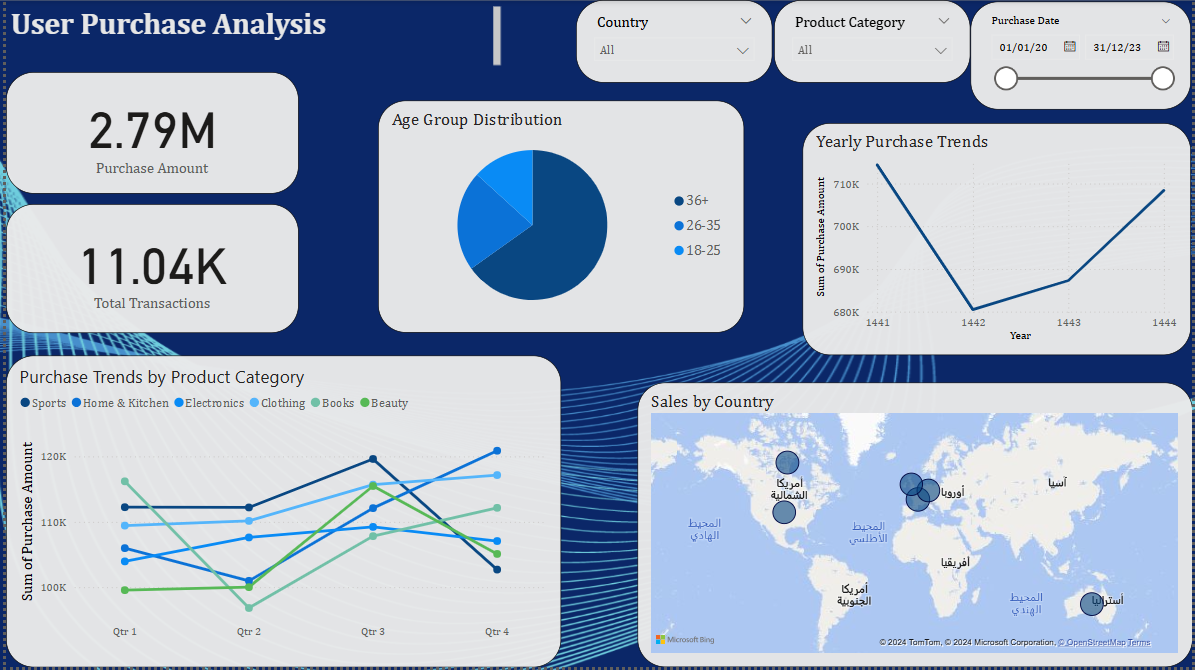

The dashboard page shown, as its layout file describes it:
{"tool":"powerbi","page":{"name":"Page ١","canvas":[1280,720],"ordinal":0},"visuals":[{"type":"lineChart","title":"Purchase Trends by Product Category","fields":{"Y":["Sum(dataset.Purchase Amount)"],"Series":["dataset.Product Category"],"Category":["dataset.Purchase Date.Variation.Date Hierarchy.Quarter"]},"box":[0,383.8,599.1,336.8],"z":0},{"type":"slicer","fields":{"Values":["dataset.Purchase Date"]},"box":[1041.2,1.6,238,116.6],"z":1000},{"type":"card","fields":{"Values":["Sum(dataset.Purchase Amount)"]},"box":[0,77.7,315.7,131.2],"z":2000},{"type":"card","fields":{"Values":["CountNonNull(dataset.User ID)"]},"box":[0,220.2,315.7,139.3],"z":3000},{"type":"map","title":"Sales by Country","fields":{"Category":["dataset.Country"],"Size":["Sum(dataset.Purchase Amount)"]},"box":[681.7,412.9,599.1,307.7],"z":4000},{"type":"lineChart","title":"Yearly Purchase Trends","fields":{"Category":["dataset.Purchase Date.Variation.Date Hierarchy.Year","dataset.Purchase Date.Variation.Date Hierarchy.Quarter","dataset.Purchase Date.Variation.Date Hierarchy.Month","dataset.Purchase Date.Variation.Date Hierarchy.Day"],"Y":["Sum(dataset.Purchase Amount)"]},"box":[859.8,132.8,419.4,251],"z":5000},{"type":"pieChart","title":"Age Group Distribution","fields":{"Category":["dataset.Age Group"],"Y":["CountNonNull(dataset.User ID)"]},"box":[401.6,108.5,395.1,251],"z":6000},{"type":"slicer","fields":{"Values":["dataset.Country"]},"box":[615.3,0,212.1,89.1],"z":7000},{"type":"slicer","fields":{"Values":["dataset.Product Category"]},"box":[829,0,212.1,89.1],"z":8000},{"type":"textbox","box":[0,1.6,539.2,76.1],"z":9000}]}

Visuals, with their boxes in screenshot pixels (x1, y1, x2, y2), scaled from the page's 1280x720 canvas onto the 1195x670 screenshot:
"Purchase Trends by Product Category" lineChart: crop(0, 357, 559, 669)
slicer - dataset.Purchase Date: crop(972, 1, 1194, 110)
card - Sum(dataset.Purchase Amount): crop(0, 72, 295, 194)
card - CountNonNull(dataset.User ID): crop(0, 205, 295, 335)
"Sales by Country" map: crop(636, 384, 1194, 669)
"Yearly Purchase Trends" lineChart: crop(803, 124, 1194, 357)
"Age Group Distribution" pieChart: crop(375, 101, 744, 335)
slicer - dataset.Country: crop(574, 0, 772, 83)
slicer - dataset.Product Category: crop(774, 0, 972, 83)
textbox: crop(0, 1, 503, 72)
